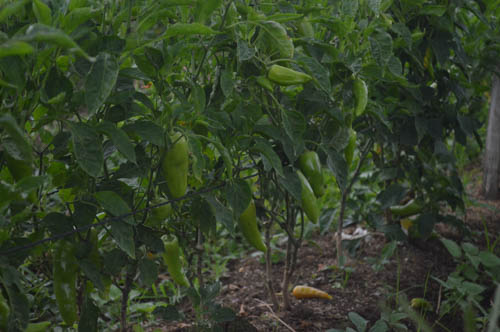ChiliPepper: (52, 237, 78, 323), (163, 134, 193, 205), (160, 238, 188, 288), (294, 172, 319, 227), (239, 201, 266, 251), (299, 152, 326, 192), (270, 62, 305, 85), (353, 77, 368, 120)
